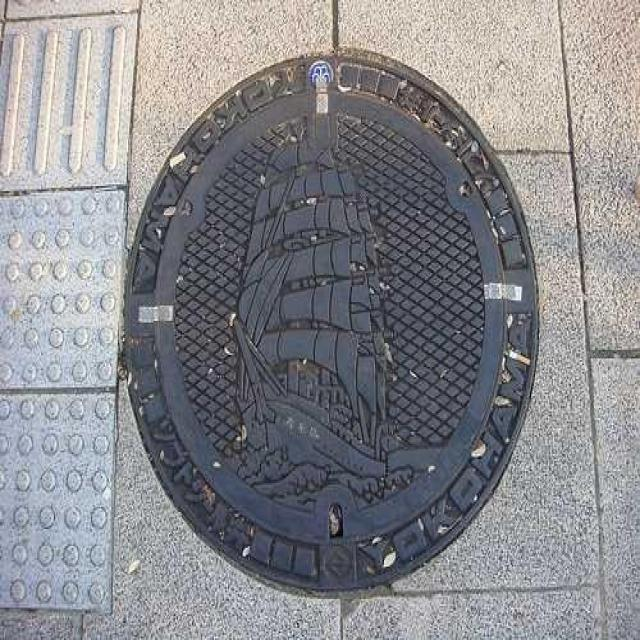manhole: (122, 53, 541, 599)
